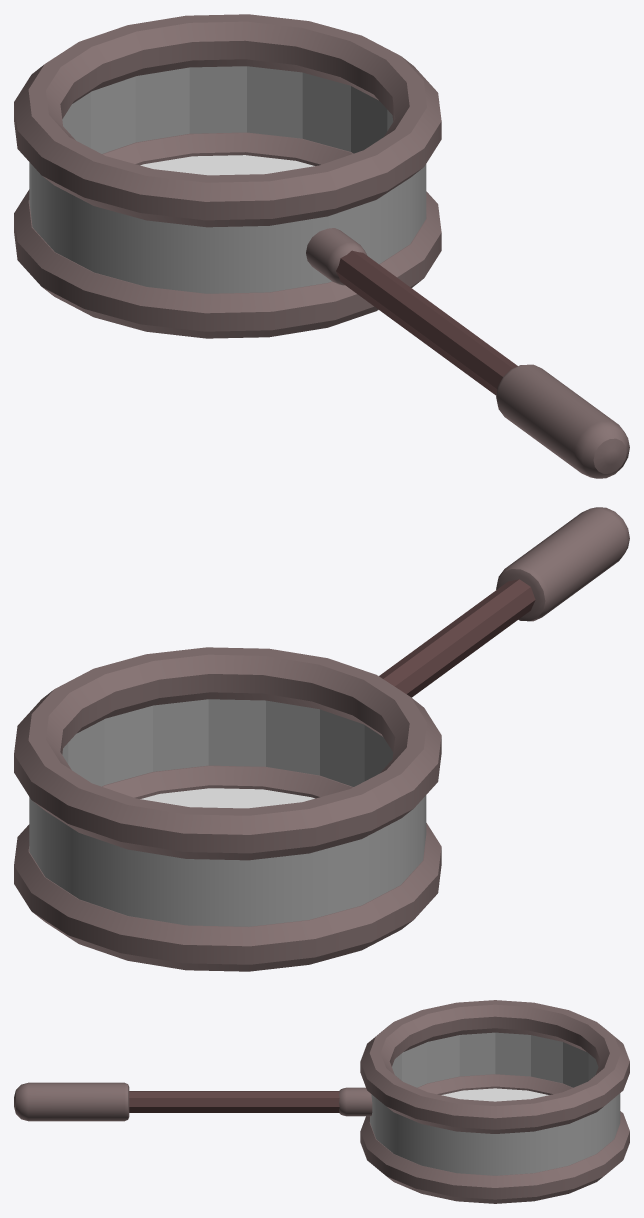
File: IdentifyingPan.fbx
The picture shows the model from 3 angles, top to bottom: view 1: azimuth 30°, elevation 25°; view 2: azimuth 150°, elevation 25°; view 3: azimuth 270°, elevation 25°; orthographic projection. The views are drawn at different scales.
Parts seen in each view (by area): view 1: IdentifyingPan; view 2: IdentifyingPan; view 3: IdentifyingPan.
Boxes of the visible parts, x1,y1,x2,y2 form: IdentifyingPan: (14, 14, 629, 478); IdentifyingPan: (14, 507, 629, 971); IdentifyingPan: (14, 1000, 629, 1203).
Size of the model in its own units: 0.7 by 0.28 by 1.6.
